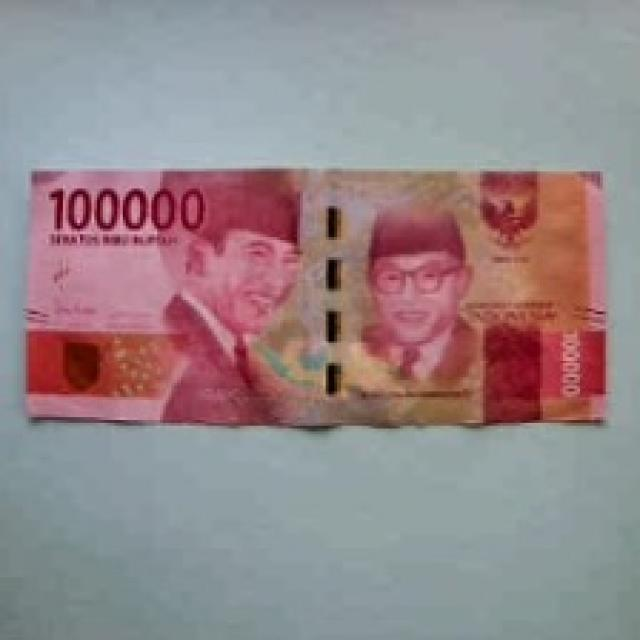lima puluh ribu rupiah: (498, 298, 634, 429)
